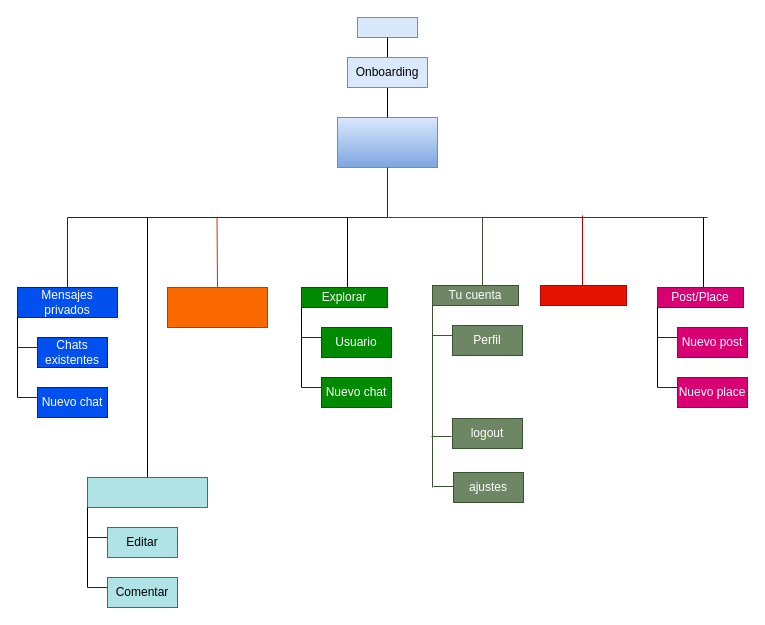
Some shapes in this 765 by 625 pixel diagram are drawn without their labels. The shapes that lost their labels are listed below. From the top down, each one's centre as x and y in pixels, then its label:
At (387,27): "Login".
At (387,142): "Mapa/Feed".
At (217,307): "Mensajes grupales ubicación".
At (583,295): "Favoritos".
At (147,492): "Detalle P/P".
